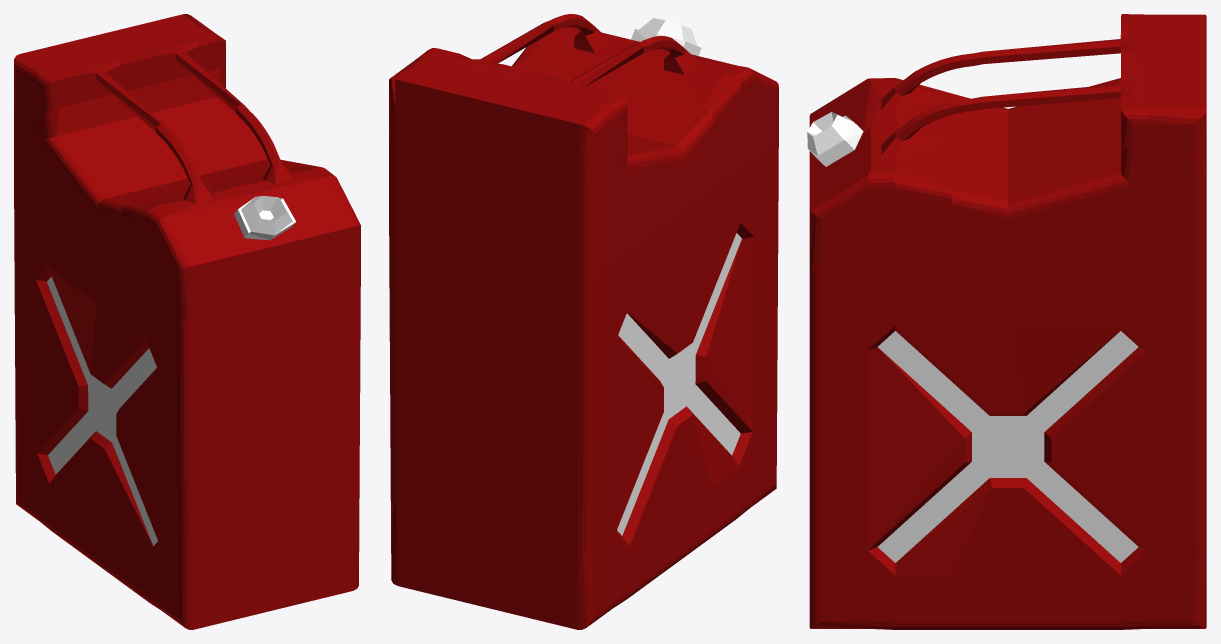
File: Jerricane1.fbx
3 views of the same model, side by side, from view 1: azimuth 30°, elevation 25°; view 2: azimuth 150°, elevation 25°; view 3: azimuth 270°, elevation 25° (orthographic). The views are drawn at different scales.
Parts seen in each view (by area): view 1: base poignet; view 2: base poignet; view 3: base poignet.
Boxes of the visible parts, box(x1,y1,x2,y2) form: base poignet: box(14, 14, 360, 629); base poignet: box(389, 14, 778, 629); base poignet: box(807, 14, 1206, 629).
Size of the model in its own units: 5.93 by 14.08 by 9.76.
